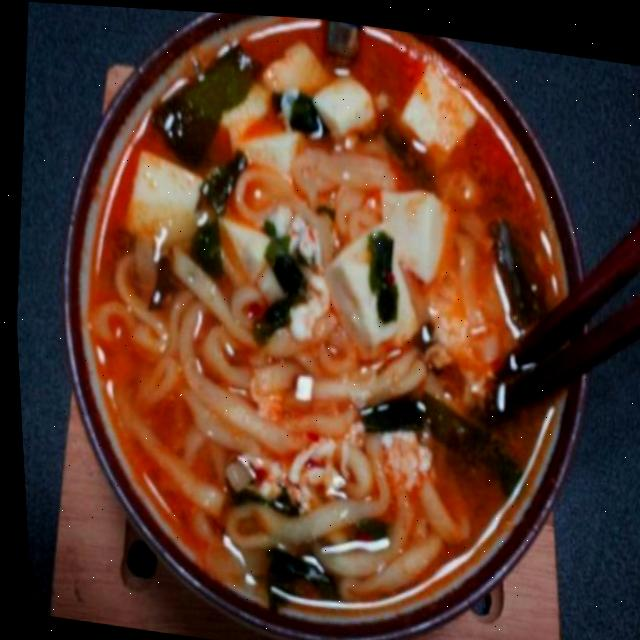面条主食: (12, 1, 624, 640)
